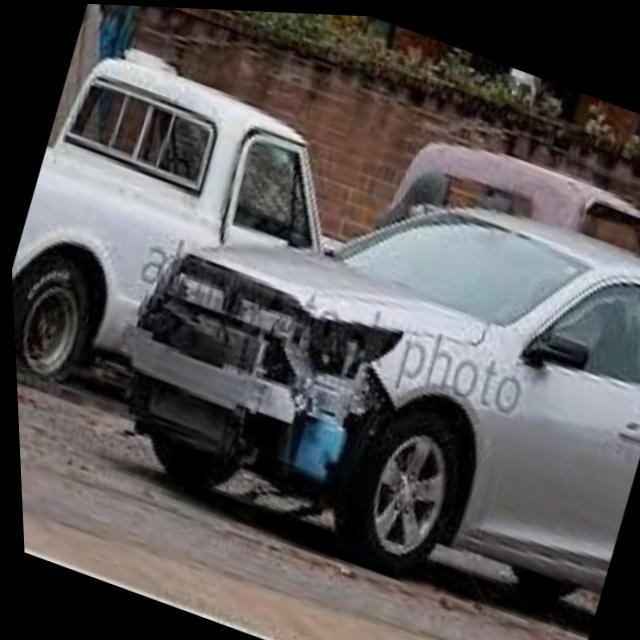no part: (118, 247, 415, 496)
